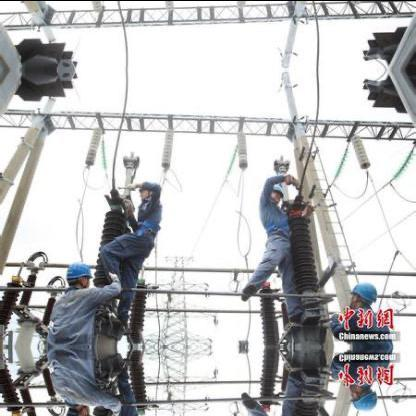Helmet: (62, 258, 94, 288), (347, 279, 377, 307), (347, 383, 377, 411), (267, 182, 285, 203), (62, 402, 94, 412)
